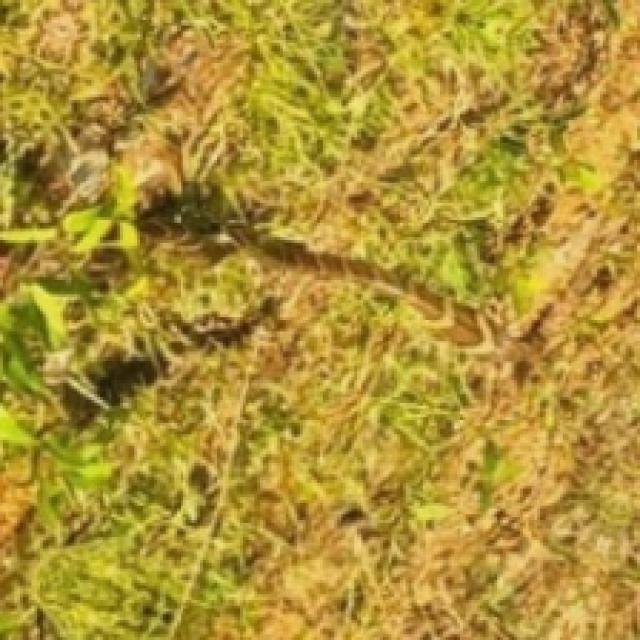king cobra: (200, 216, 605, 381)
